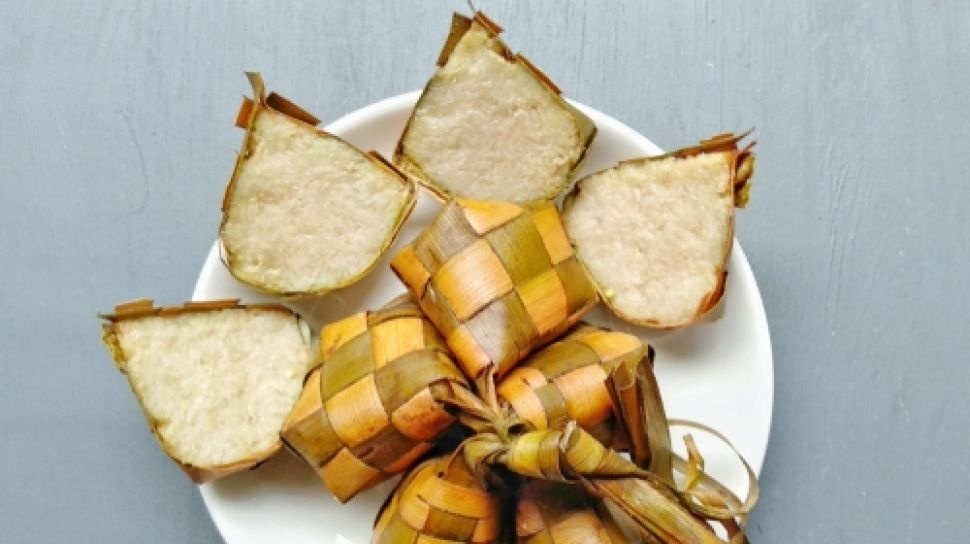ketupat: (279, 296, 461, 504), (389, 200, 599, 377)
